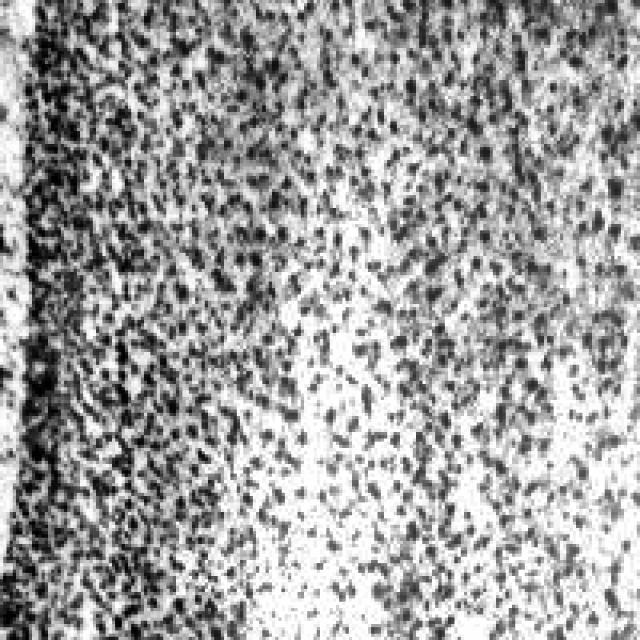Rolled_in_Scale: (0, 0, 627, 637)
